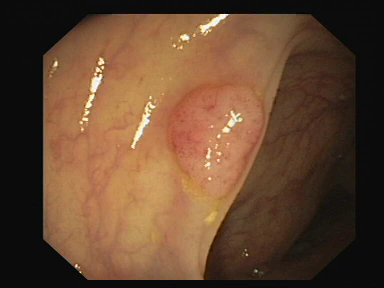polyp: (155, 62, 282, 209)
